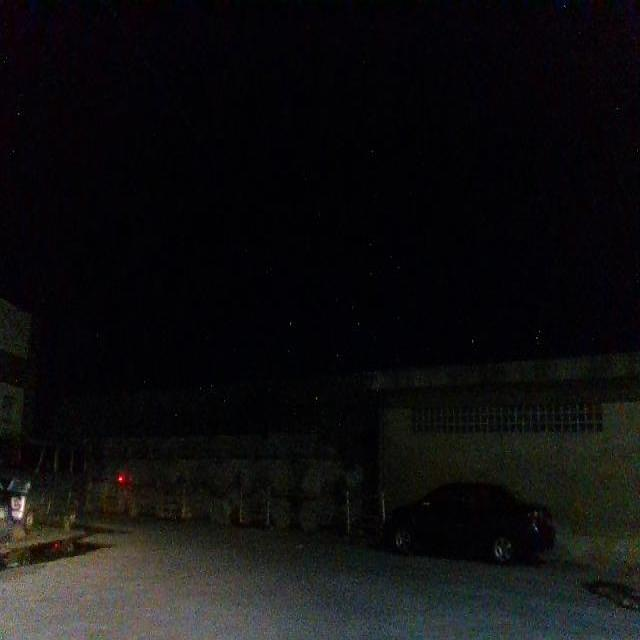pollute: (578, 581, 638, 620)
